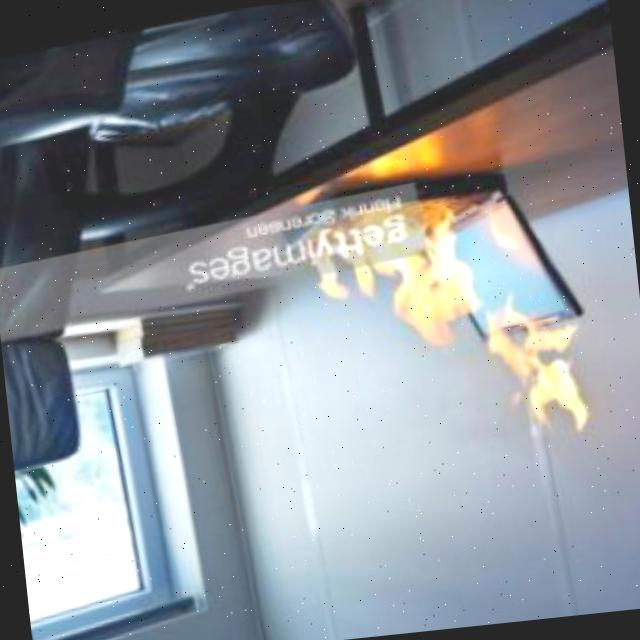fire: (301, 160, 595, 464)
